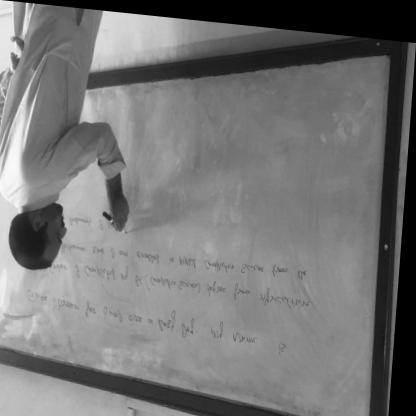Handwritten text: (23, 280, 304, 360), (76, 260, 331, 310), (59, 238, 323, 281), (66, 206, 98, 230)
Lecturer: (0, 9, 126, 280)
Whiteboard: (0, 39, 395, 416)
